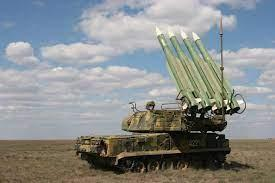rszo: (66, 20, 250, 174)
